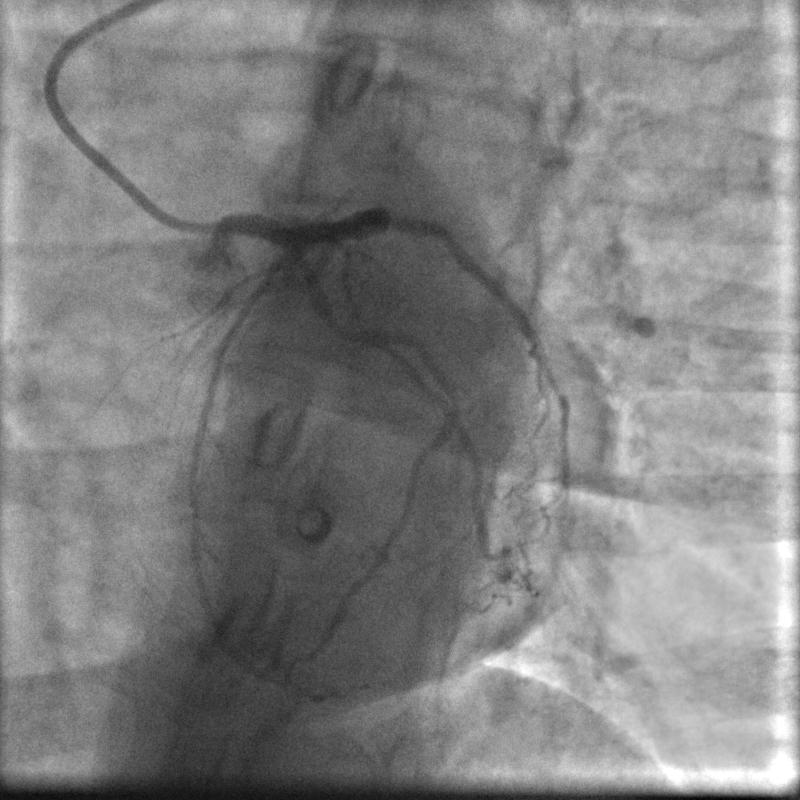Stenosis: (322, 310, 364, 345)
